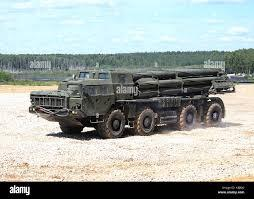MIL_SAM_TEL: (25, 69, 236, 134)
